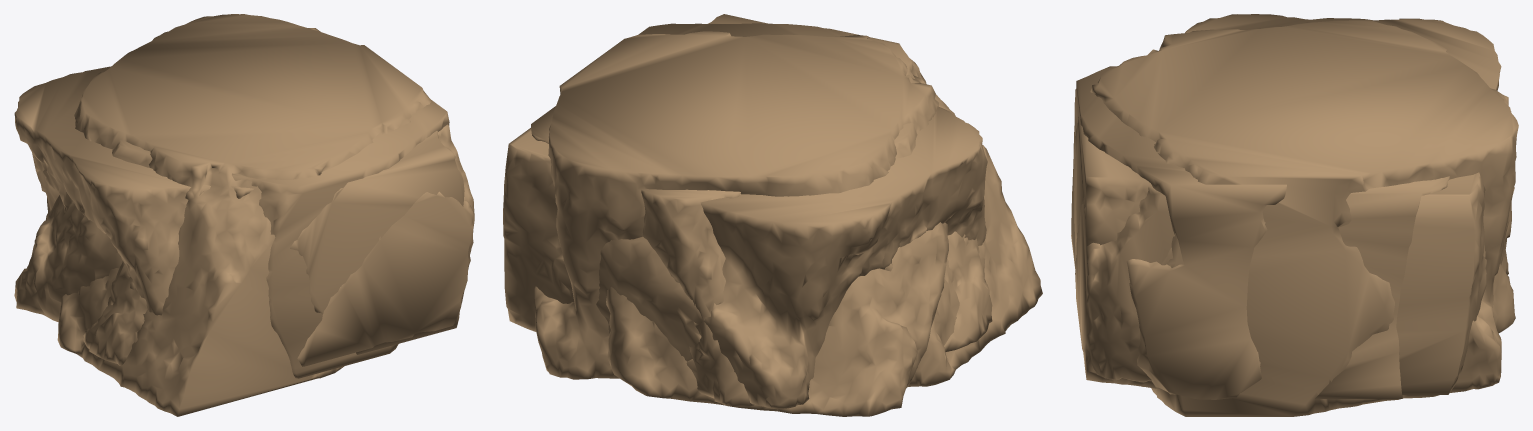
File: fractured-talus-kit.glb
The picture shows the model from 3 angles, left to right: view 1: azimuth 30°, elevation 25°; view 2: azimuth 150°, elevation 25°; view 3: azimuth 270°, elevation 25°; orthographic projection. The views are drawn at different scales.
Parts seen in each view (by area): view 1: talus-2, talus-3, talus-0, talus-1; view 2: talus-2, talus-3, talus-0, talus-1; view 3: talus-2, talus-3, talus-0, talus-1.
Boxes of the visible parts, x1,y1,x2,y2 form: talus-2: [57, 14, 431, 416]; talus-3: [14, 28, 474, 366]; talus-0: [14, 99, 449, 378]; talus-1: [83, 131, 464, 365]; talus-2: [534, 31, 1042, 386]; talus-3: [503, 106, 987, 409]; talus-0: [606, 23, 948, 416]; talus-1: [531, 14, 992, 406]; talus-2: [1071, 20, 1518, 416]; talus-3: [1075, 14, 1514, 394]; talus-0: [1074, 66, 1515, 399]; talus-1: [1075, 88, 1511, 398].
Bounding box in the file's own units: 1.82 × 1.05 × 1.81.
